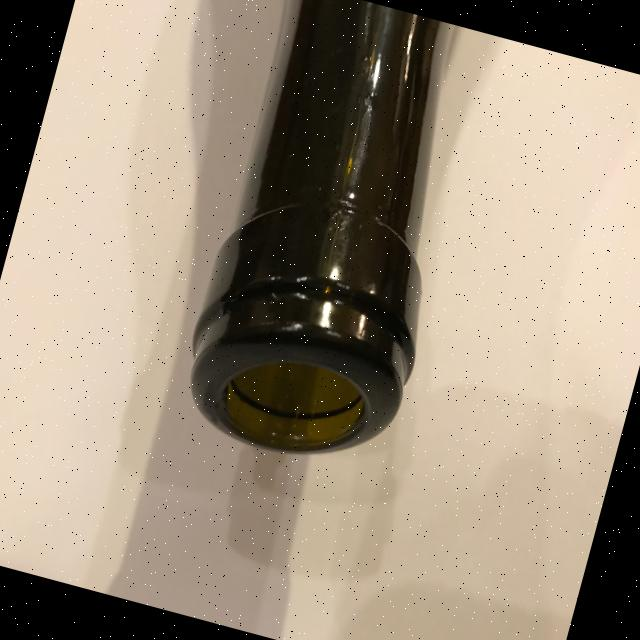glass: (167, 0, 502, 481)
